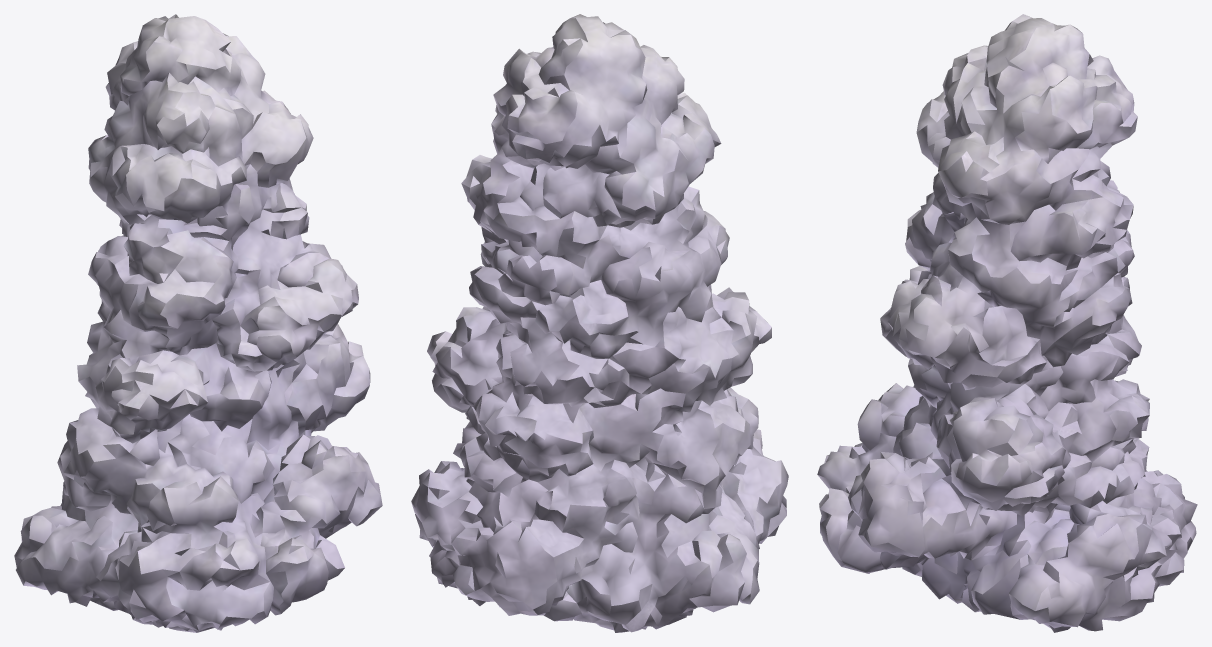
Rendered from cloud_cumulo_lite.glb.
3 views of the same model, side by side, from view 1: azimuth 30°, elevation 25°; view 2: azimuth 150°, elevation 25°; view 3: azimuth 270°, elevation 25° (orthographic). The views are drawn at different scales.
Parts seen in each view (by area): view 1: geometry_0; view 2: geometry_0; view 3: geometry_0.
Boxes of the visible parts, x1,y1,x2,y2 form: geometry_0: (14, 14, 382, 632); geometry_0: (411, 14, 788, 632); geometry_0: (817, 14, 1197, 632).
Size of the model in its own units: 1.13 by 1.9 by 1.12.
Materials: 1 (1 with a texture image).
